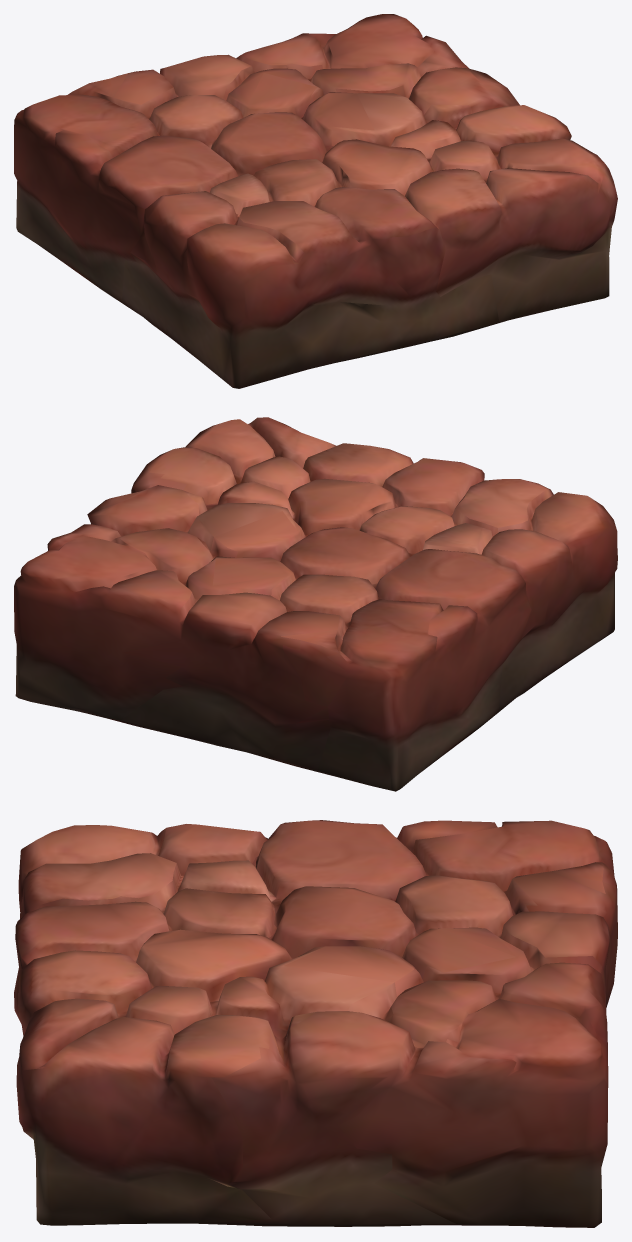
The model's file is t13_laje_rachada.glb.
3 renders of one model, top to bottom at view 1: azimuth 30°, elevation 25°; view 2: azimuth 150°, elevation 25°; view 3: azimuth 270°, elevation 25°, orthographic. The views are drawn at different scales.
Visible parts, largest first — view 1: t13_laje_rachada; view 2: t13_laje_rachada; view 3: t13_laje_rachada.
Part boxes in pixels (x1,y1,x2,y2): t13_laje_rachada: (14,14,617,388); t13_laje_rachada: (14,417,617,791); t13_laje_rachada: (14,820,617,1227).
Bounding box in the file's own units: 1 × 0.3165 × 1.
1 material, 1 textured.
